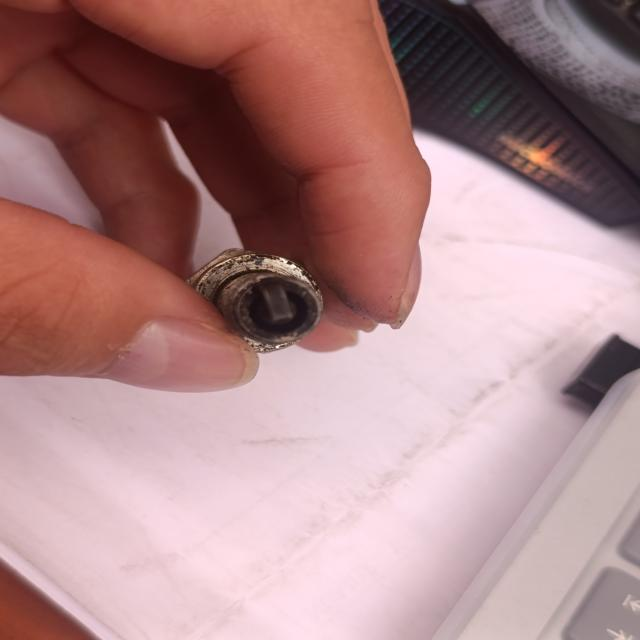bujia: (187, 249, 323, 353), (239, 78, 246, 108)
